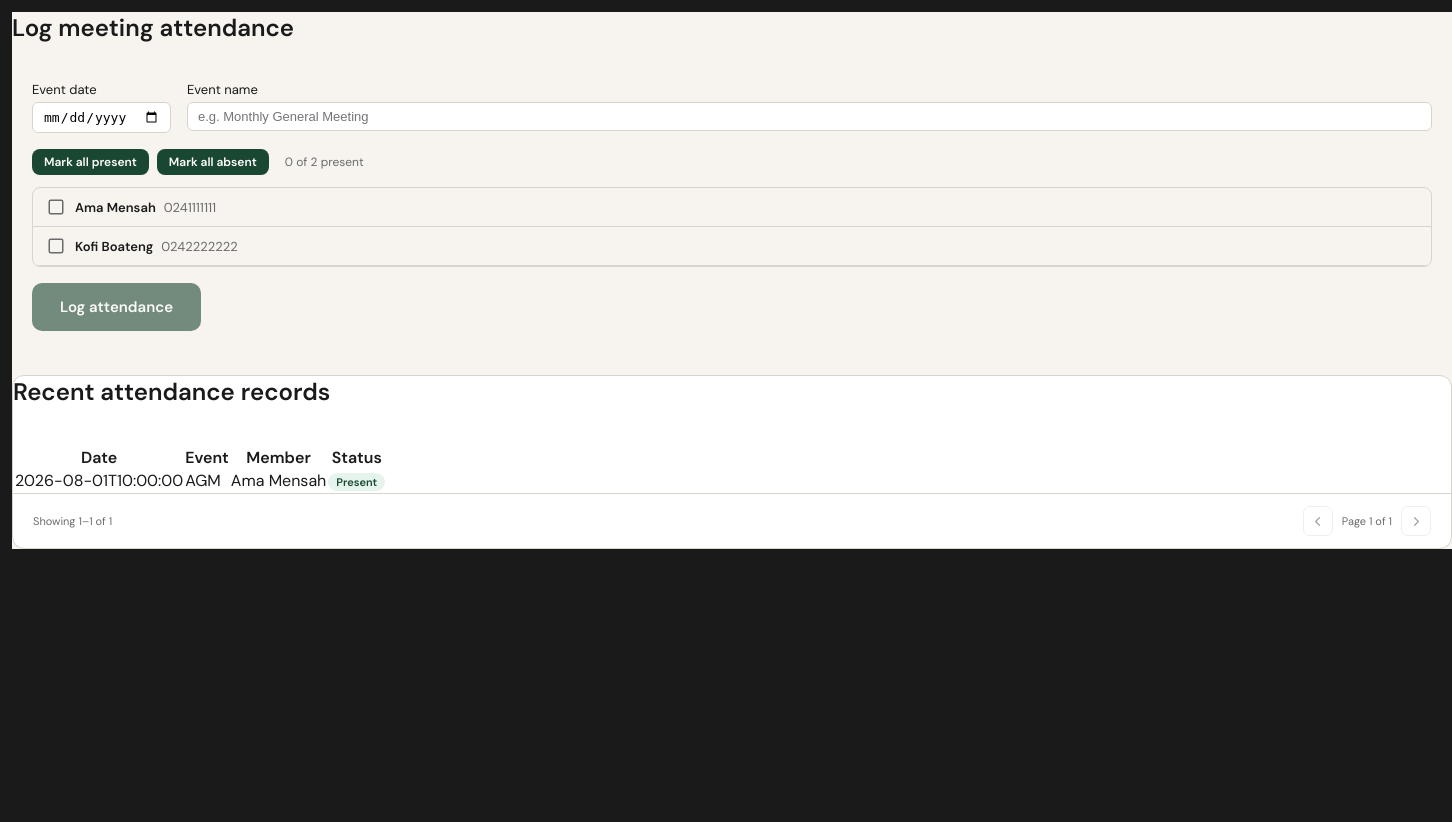
Test case: CooperativeAttendance › shows a real error state instead of an alert when recording fails
Check: the text "AGM" is shown, box [185, 470, 229, 491]
Type "2026-09-20" into the date field labelled "Event date" at {"x": 102, "y": 118}, box [32, 102, 171, 133]
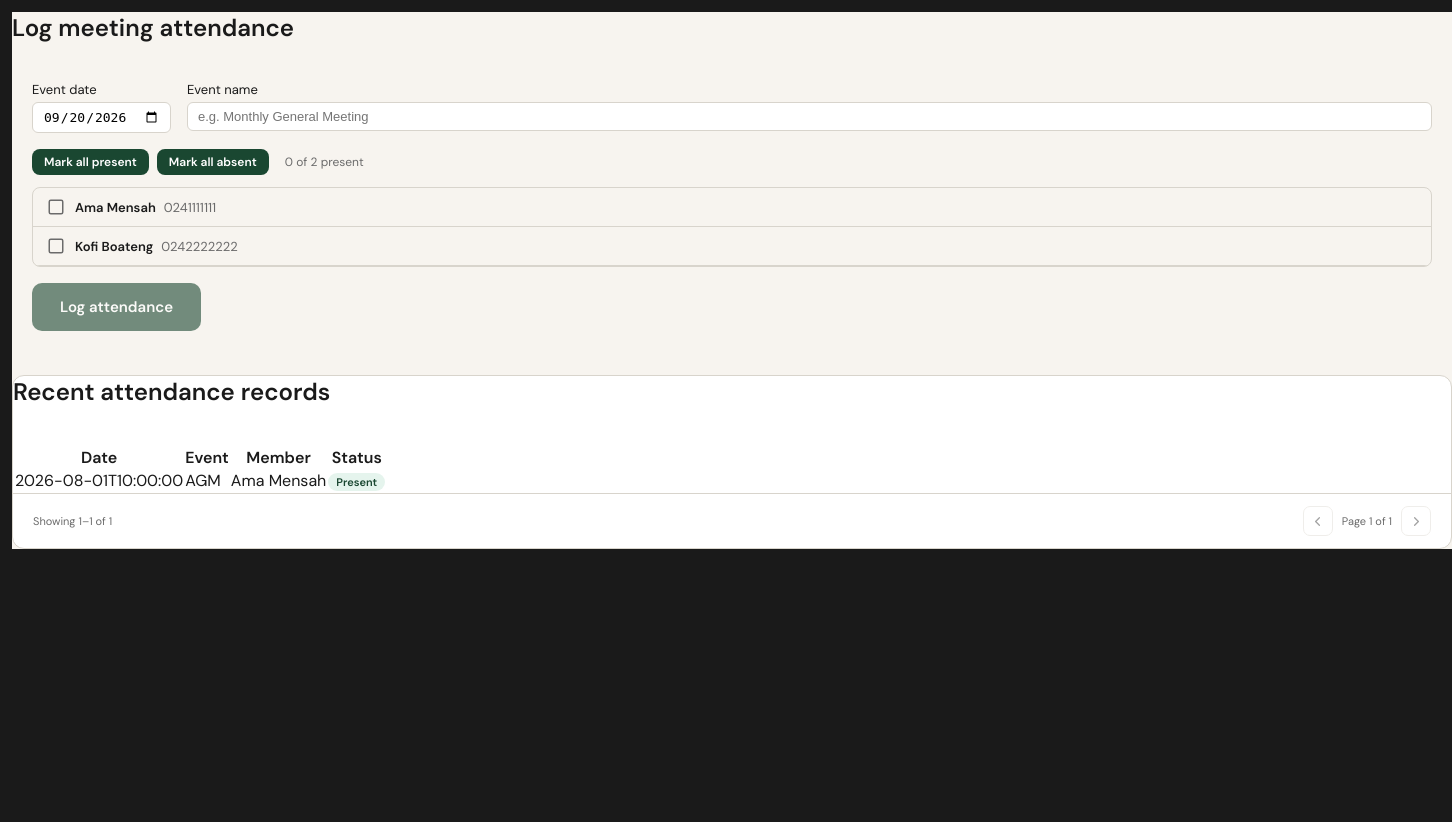
Type "Training" into the field labelled "Event name" at {"x": 810, "y": 116}, box [187, 102, 1432, 131]
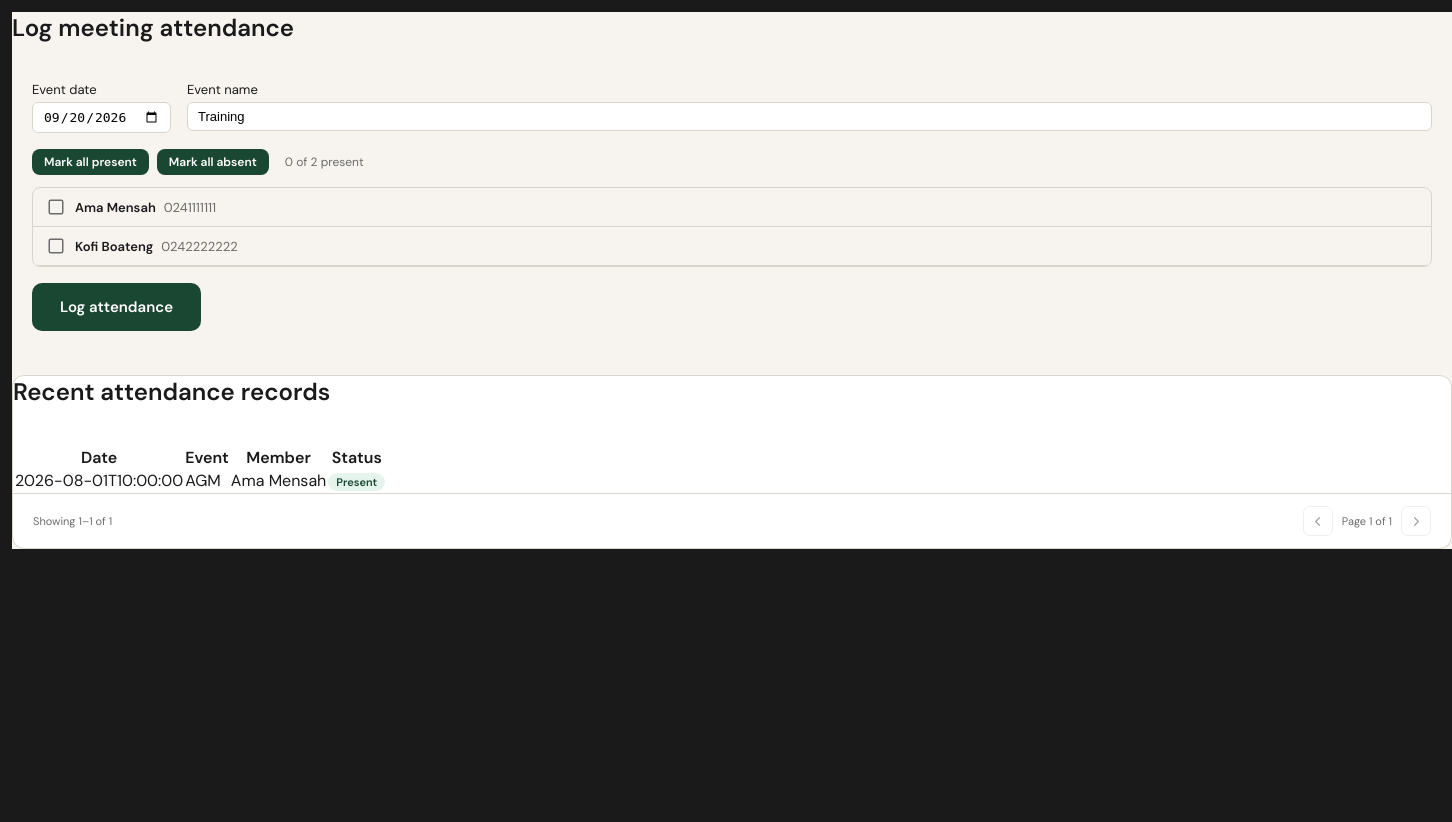
Click the button "Log attendance" at {"x": 116, "y": 307}, box [32, 283, 201, 331]
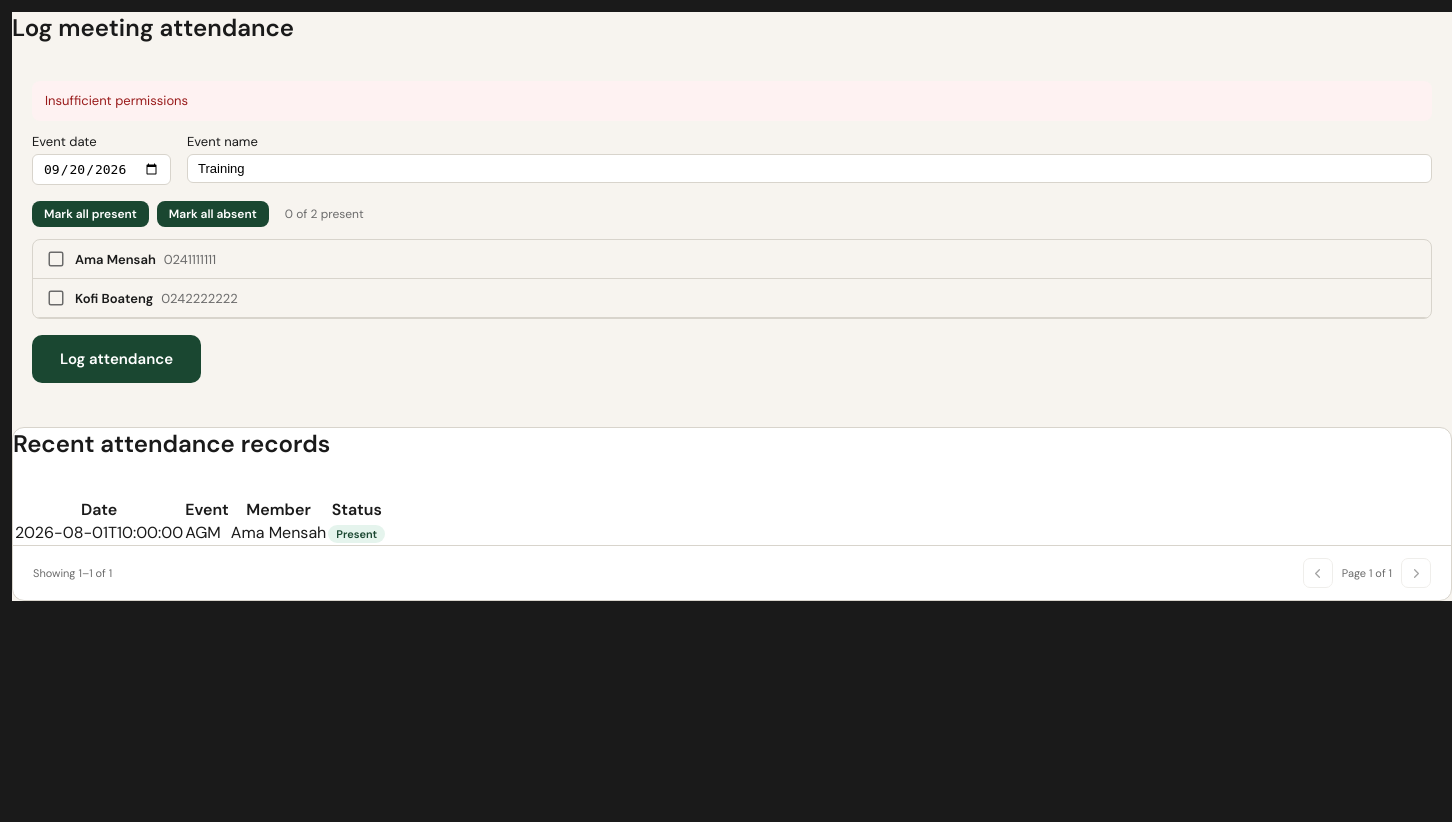
Check: the message "Insufficient permissions" is shown, box [32, 81, 1432, 121]
Check: the message reads "Insufficient permissions", box [45, 92, 188, 109]
